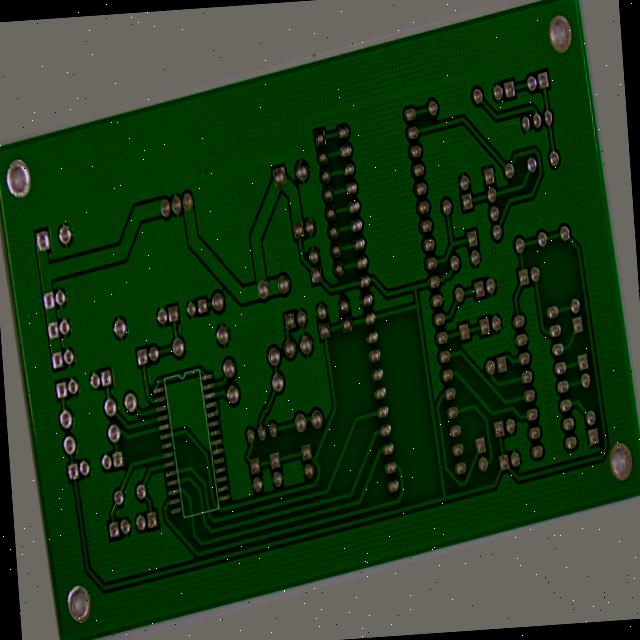mouse_bite: (185, 452, 195, 473), (228, 522, 238, 539)
